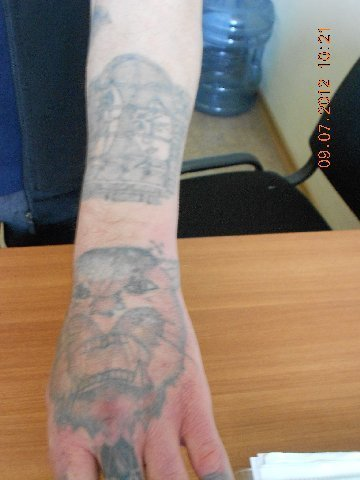tatu5_tigr: (46, 236, 196, 433)
